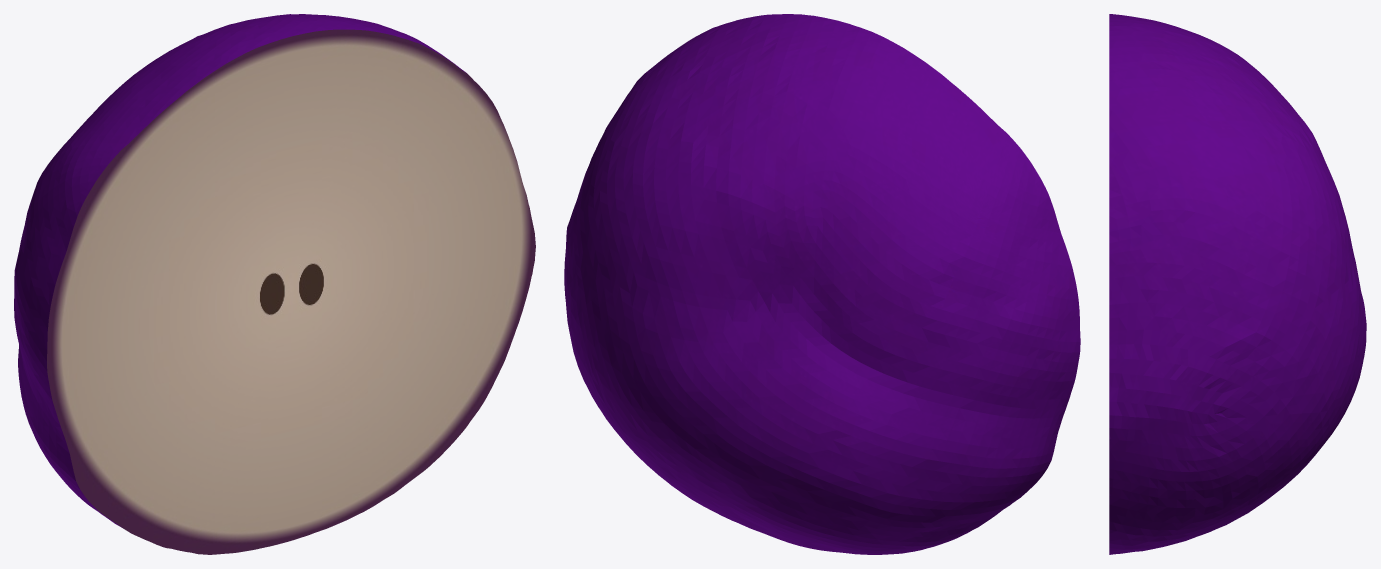
File: grape_left.obj
The picture shows the model from 3 angles, left to right: view 1: azimuth 30°, elevation 25°; view 2: azimuth 150°, elevation 25°; view 3: azimuth 270°, elevation 25°; orthographic projection. The views are drawn at different scales.
Parts seen in each view (by area): view 1: fruit_half; view 2: fruit_half; view 3: fruit_half.
Boxes of the visible parts, x1,y1,x2,y2 form: fruit_half: [14, 14, 535, 554]; fruit_half: [564, 14, 1080, 554]; fruit_half: [1109, 14, 1366, 554].
Size of the model in its own units: 1.61 by 1.59 by 0.751.
